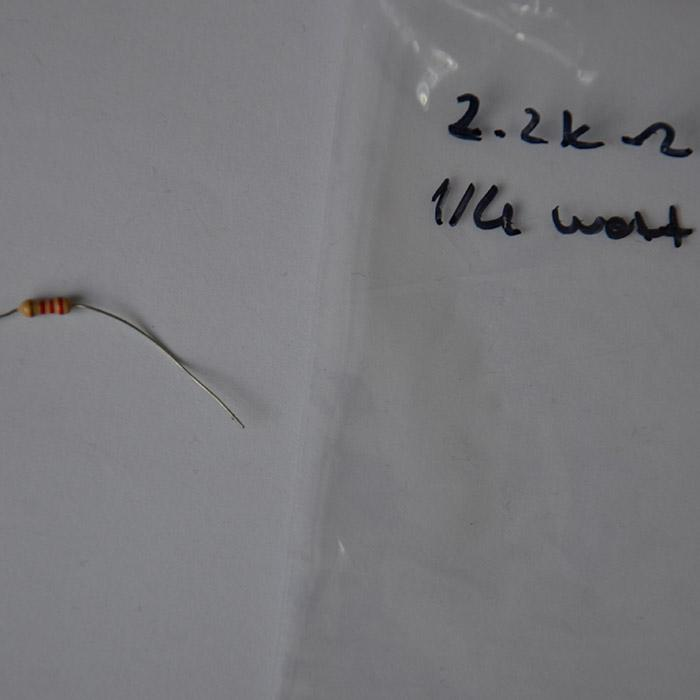resistor: (19, 295, 74, 316)
